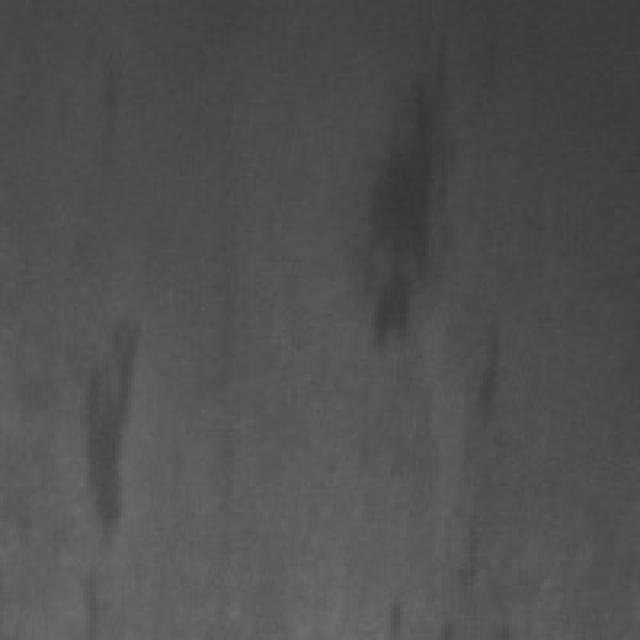inclusion: (330, 16, 464, 362), (58, 282, 150, 550), (454, 298, 522, 432), (74, 48, 124, 157)
